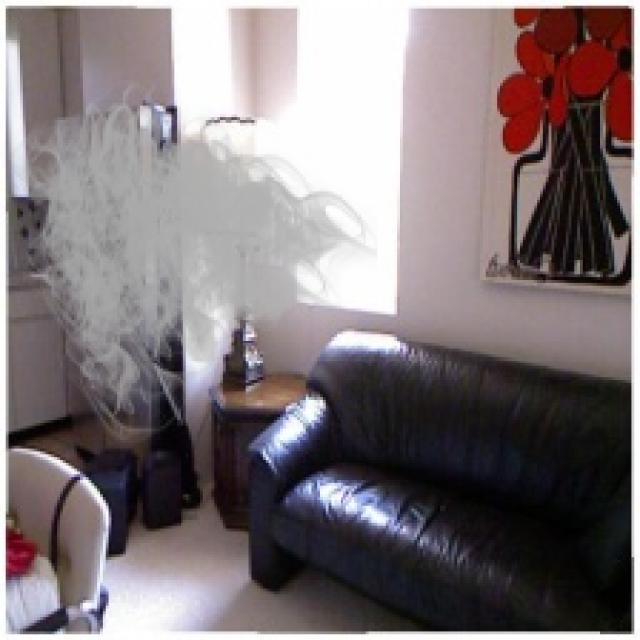smoke: (0, 69, 377, 448)
